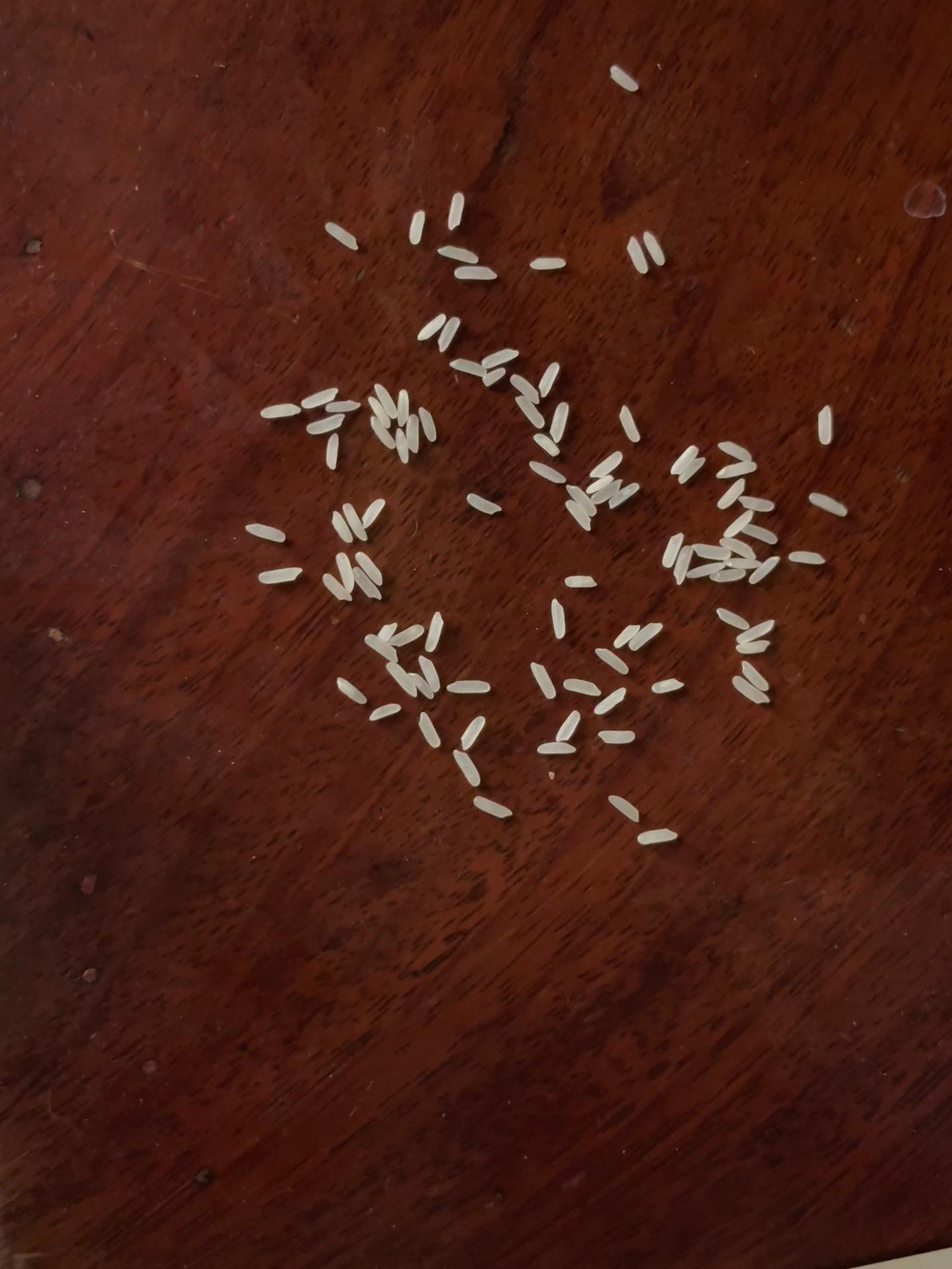Rice-th-y-nh: (386, 662, 417, 698), (453, 749, 481, 787), (733, 676, 770, 704), (566, 484, 598, 516), (515, 395, 545, 429), (342, 503, 368, 541), (671, 545, 695, 585), (325, 222, 359, 250), (629, 623, 663, 651), (365, 634, 399, 662), (530, 663, 556, 699), (809, 492, 848, 516), (510, 374, 540, 405), (353, 568, 382, 600), (595, 647, 629, 674), (356, 552, 383, 586), (369, 416, 396, 450), (749, 556, 780, 585), (609, 794, 640, 823), (736, 620, 775, 643), (594, 688, 627, 715), (720, 536, 757, 560), (589, 452, 623, 478), (460, 716, 486, 750), (717, 479, 746, 509), (322, 573, 352, 602), (670, 445, 699, 475), (723, 510, 754, 538), (417, 712, 441, 748), (741, 661, 769, 691), (374, 384, 398, 419), (336, 678, 367, 705), (591, 479, 622, 506), (474, 796, 512, 818), (608, 483, 640, 509), (302, 387, 338, 410), (418, 656, 441, 692), (335, 553, 356, 592), (678, 456, 706, 485), (609, 65, 638, 93), (555, 711, 581, 742), (661, 533, 684, 568), (643, 231, 666, 266), (246, 523, 286, 543), (438, 244, 478, 264), (548, 599, 568, 639), (619, 406, 641, 442), (530, 461, 566, 483), (417, 314, 446, 341), (306, 414, 345, 434), (550, 403, 570, 442), (566, 500, 591, 531), (438, 317, 460, 352), (425, 612, 444, 652), (716, 607, 749, 630), (627, 237, 648, 273), (716, 461, 757, 479), (389, 625, 424, 646), (718, 441, 753, 462), (539, 362, 560, 397), (743, 523, 778, 544), (454, 264, 497, 281), (259, 567, 301, 584), (408, 673, 435, 699), (739, 494, 774, 514), (368, 397, 391, 427), (688, 561, 726, 579), (331, 512, 353, 543), (447, 193, 465, 230), (564, 678, 601, 696), (418, 407, 437, 442), (692, 544, 731, 561), (467, 494, 500, 514), (613, 624, 640, 648), (482, 349, 518, 367), (451, 359, 487, 377), (447, 679, 490, 694), (362, 499, 385, 527), (638, 828, 677, 844), (817, 406, 833, 444), (405, 414, 421, 452), (409, 210, 426, 245), (533, 434, 560, 456), (537, 740, 576, 755), (710, 567, 746, 583), (395, 390, 411, 426), (788, 550, 825, 565), (261, 404, 300, 418), (369, 704, 401, 721), (394, 429, 410, 463), (651, 678, 684, 694), (598, 730, 635, 744), (586, 475, 613, 494), (726, 557, 760, 571), (325, 400, 360, 413), (326, 434, 339, 469), (530, 257, 565, 270), (736, 641, 770, 654), (482, 368, 506, 386), (565, 575, 597, 588), (377, 623, 398, 642)
